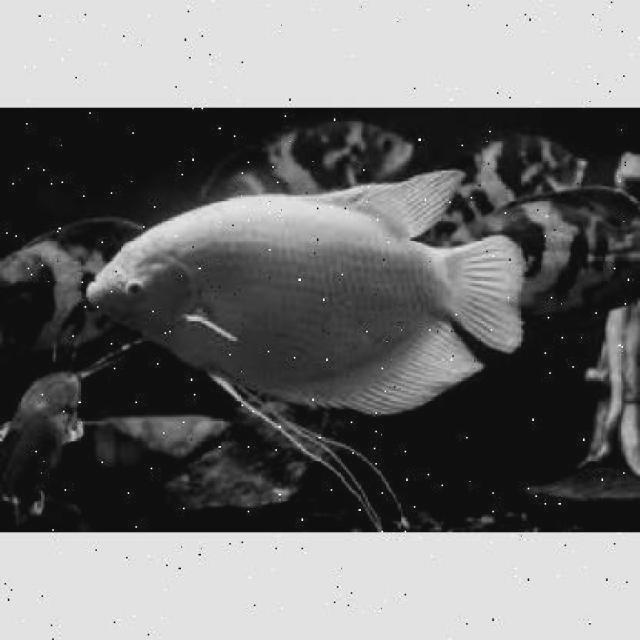gurame: (92, 185, 498, 406)
